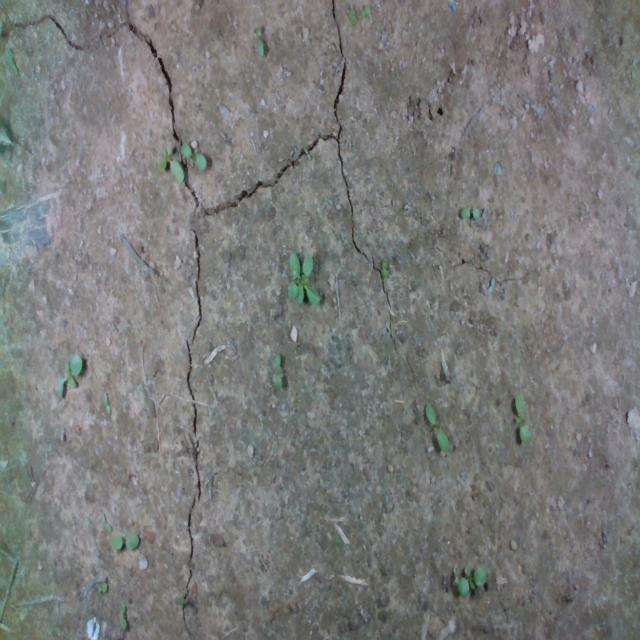weed: (422, 400, 455, 457), (56, 353, 82, 398), (511, 394, 531, 447), (180, 141, 207, 170), (110, 530, 140, 550), (272, 350, 286, 391), (253, 20, 269, 50), (101, 389, 117, 419), (455, 200, 483, 215), (100, 509, 114, 532), (118, 601, 128, 630), (380, 256, 390, 279)
